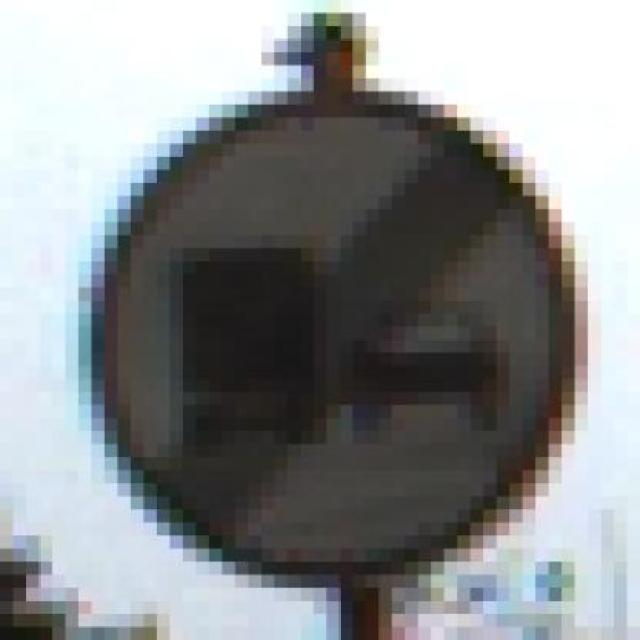Overtaking by trucks is prohibited: (65, 52, 613, 600)
